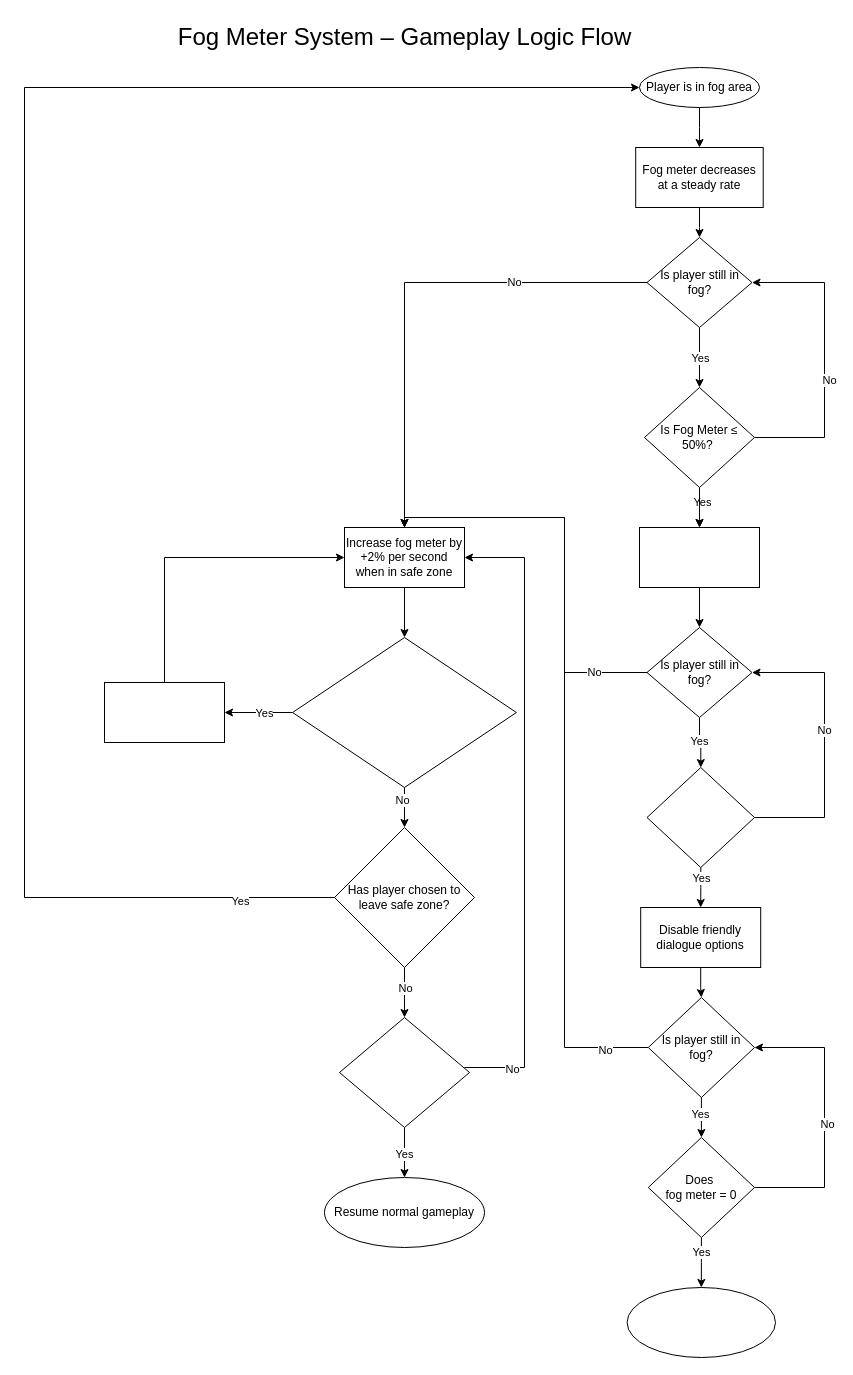
Some shapes in this 853 by 1375 pixel diagram are drawn without their labels. The centre of each missing label's shape, as x and y in pixels:
"Did the player consume mistleaf from their inventory?" belongs at point (404, 712).
"Disable magic attacks due to depleted magic points" belongs at point (699, 557).
"Does Fog Meter = 100%" belongs at point (404, 1072).
"Increase fog meter by 25 instantly" belongs at point (164, 712).
"Is Fog Meter ≤ 25%?" belongs at point (700, 817).
"Player passes out and respawns in safe zone" belongs at point (701, 1322).
